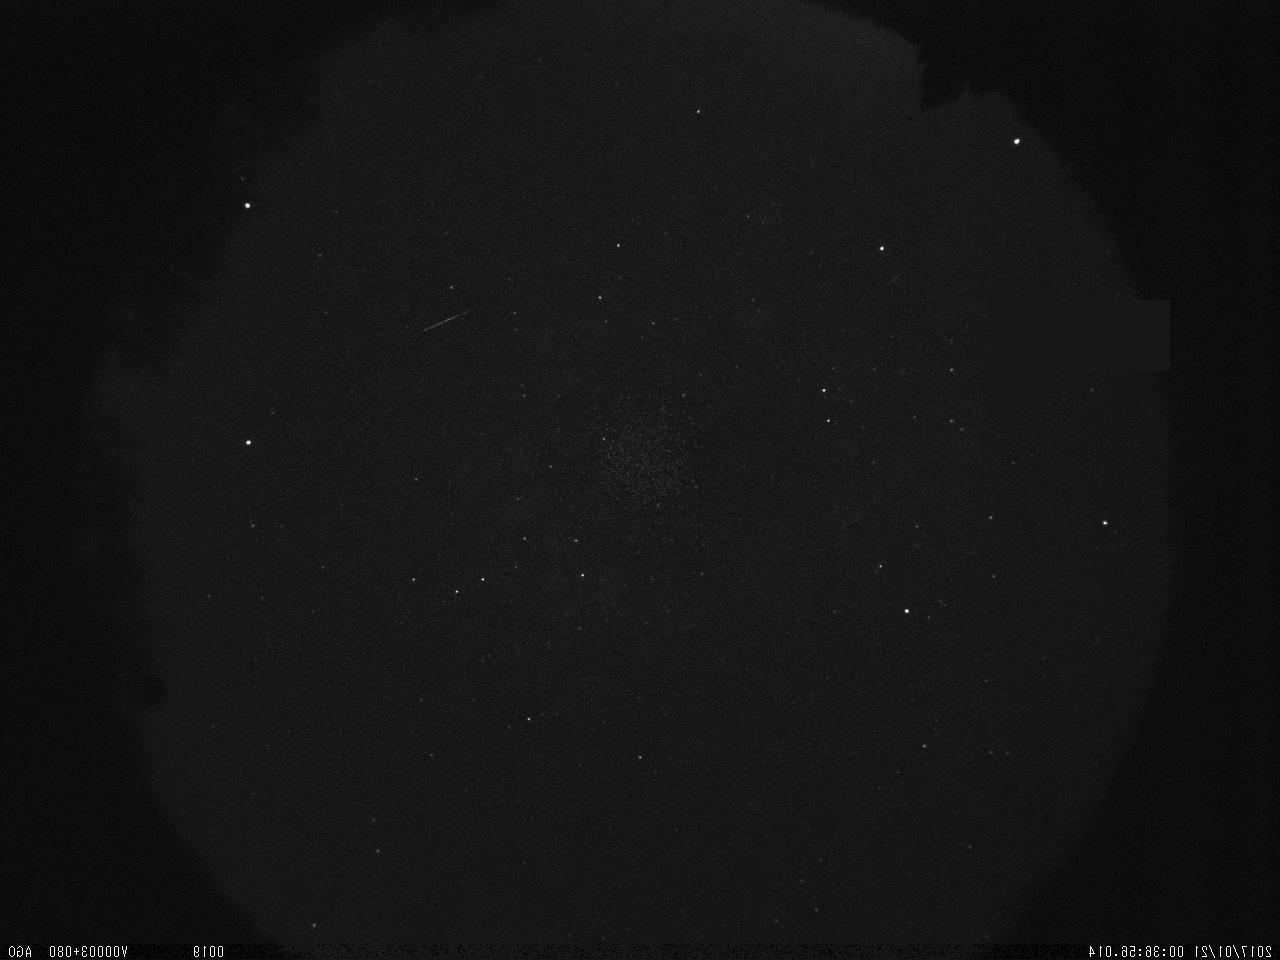meteor: (400, 293, 494, 354)
